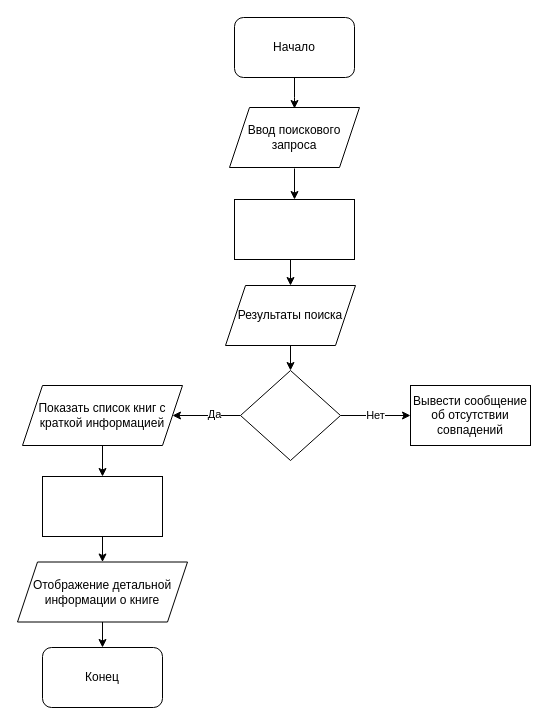
The diagram is 548 pixels wide and 725 high, and some of its shapes have lost their labels. Each missing label, with the centre of its shape:
"Выбор книги" belongs at (x=102, y=506).
"Есть совпадения?" belongs at (x=290, y=415).
"Поиск книг по названию, автору, жанру и т.д." belongs at (x=294, y=229).
